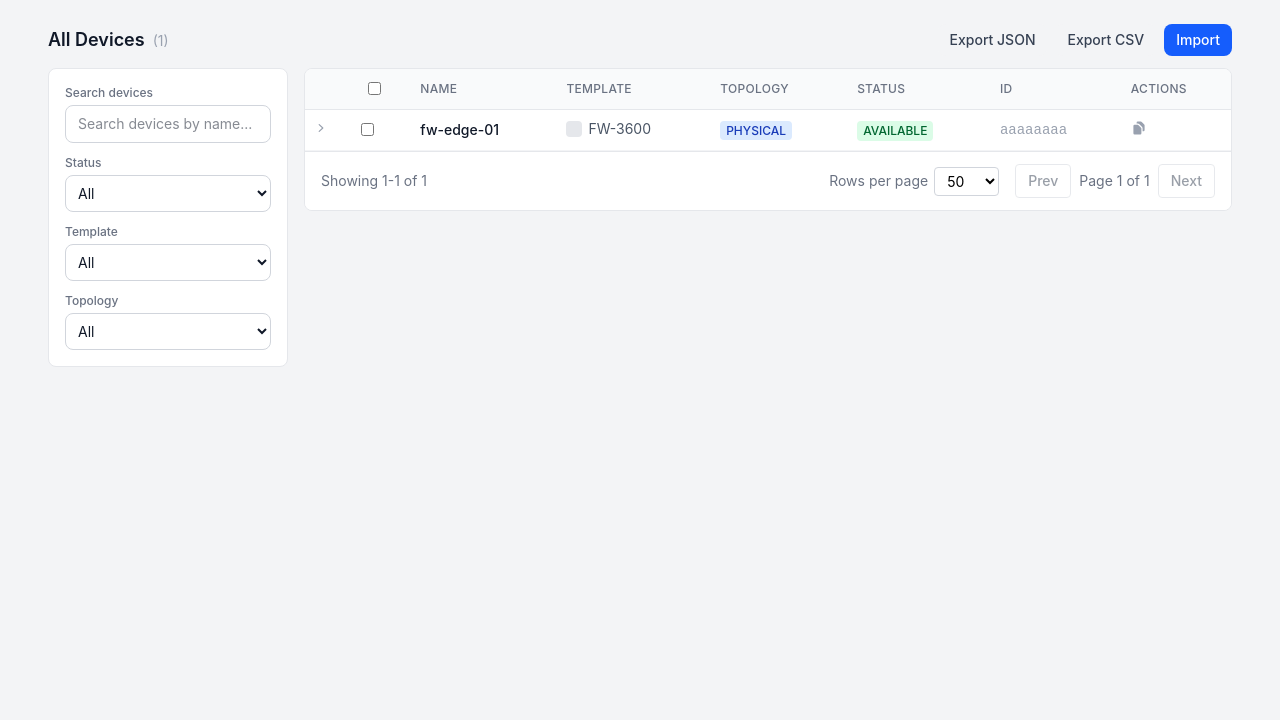
Test: InventoryPage › expanded ports row › shows a no-ports message when the device has no ports configured
The image size is (1280, 720).
Check: the text "fw-edge-01" is shown, box [404,110,550,150]
Click the button named "Expand ports" at (321, 128), box [313,120,329,136]
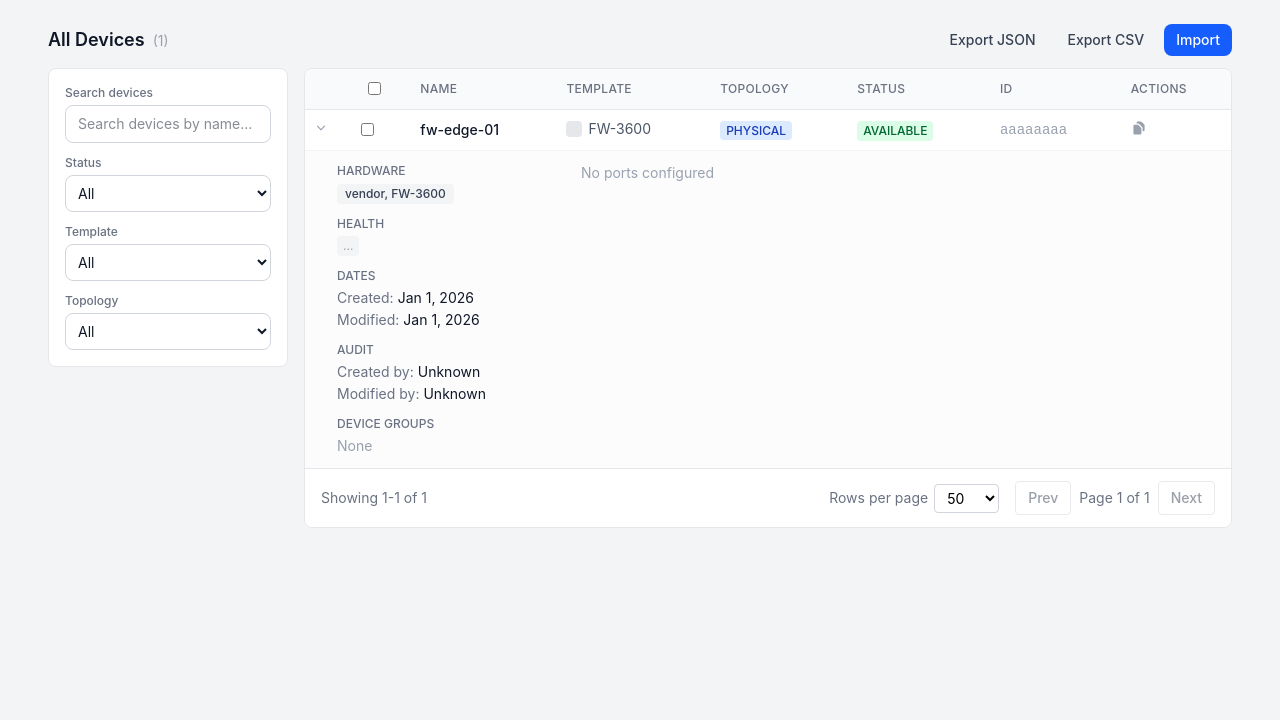
Check: the text "No ports configured" is shown, box [581,164,714,181]
